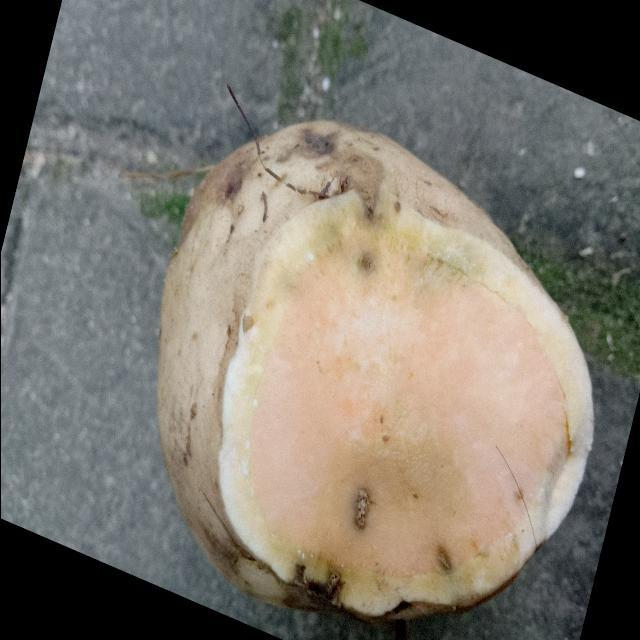Sick Sweet Potato_Tuber Rot: (219, 193, 592, 617)
